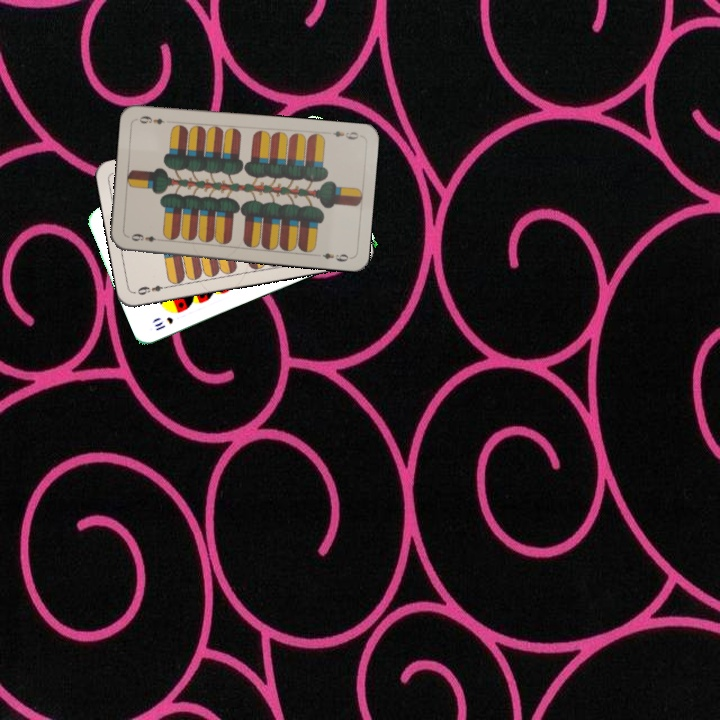E9: (133, 281, 172, 298), (328, 127, 361, 142), (127, 230, 158, 244)
S10: (150, 313, 176, 333)
